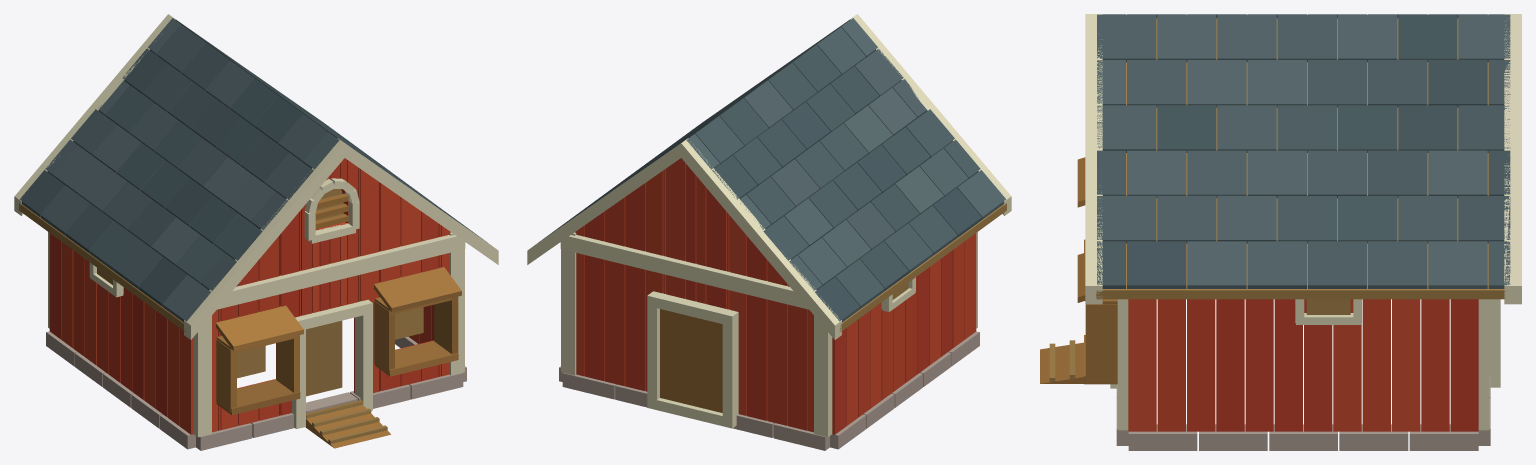
Rendered from ChickenCoop_Companion_A.fbx.
3 views of the same model, side by side, from view 1: azimuth 30°, elevation 25°; view 2: azimuth 150°, elevation 25°; view 3: azimuth 270°, elevation 25° (orthographic). The views are drawn at different scales.
Visible parts, largest first — view 1: ChickenCoop_Companion_A_Body; view 2: ChickenCoop_Companion_A_Body; view 3: ChickenCoop_Companion_A_Body.
Boxes of the visible parts, x1,y1,x2,y2 form: ChickenCoop_Companion_A_Body: (14,14,498,450); ChickenCoop_Companion_A_Body: (527,14,1011,450); ChickenCoop_Companion_A_Body: (1040,14,1521,450).
Size of the model in its own units: 3.5 by 3.1 by 3.84.
